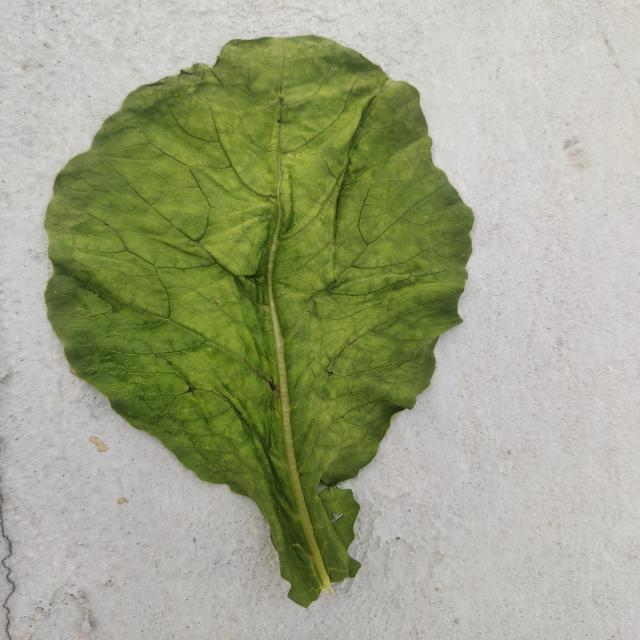raddish: (45, 36, 473, 606)
